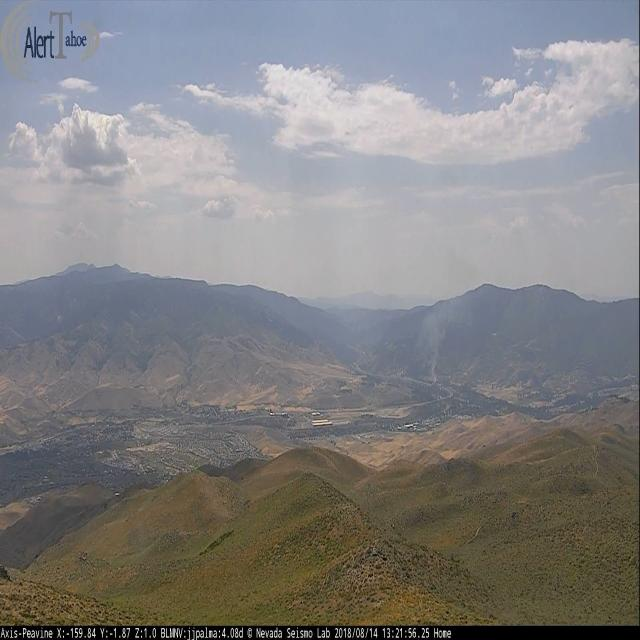smoke: (418, 314, 443, 382)
